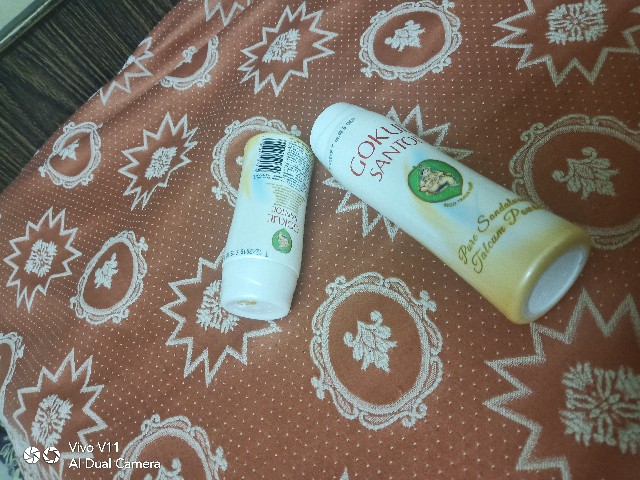gokulsantol big: (304, 100, 602, 329)
gokulsantol small: (215, 129, 314, 324)
